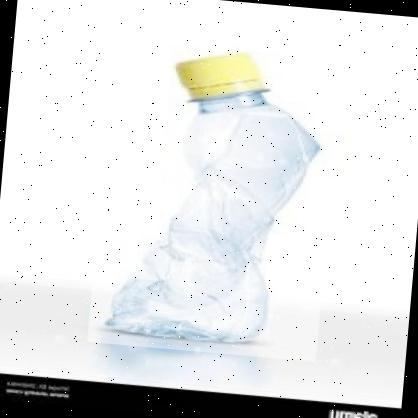bottle: (87, 30, 342, 362)
cap: (172, 46, 271, 112)
